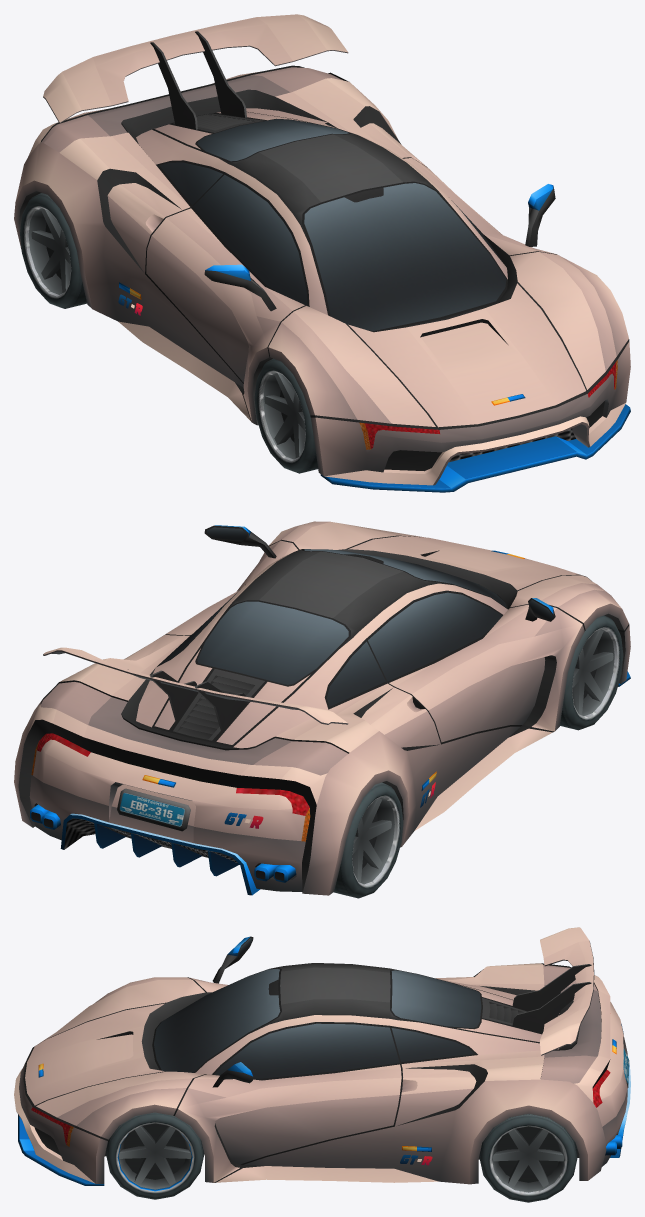
The model's file is VHC0110012.FBX.
3 views of the same model, one above another, from view 1: azimuth 30°, elevation 25°; view 2: azimuth 150°, elevation 25°; view 3: azimuth 270°, elevation 25° (orthographic). The views are drawn at different scales.
Visible parts, largest first — view 1: smVHC0110012; view 2: smVHC0110012; view 3: smVHC0110012.
Part boxes in pixels (left/top/right/bottom): smVHC0110012: left=14, top=14, right=630, bottom=492; smVHC0110012: left=14, top=521, right=630, bottom=898; smVHC0110012: left=14, top=927, right=630, bottom=1202.
Bounding box in the file's own units: 1.82 × 1 × 3.38.
1 material, 1 textured.
